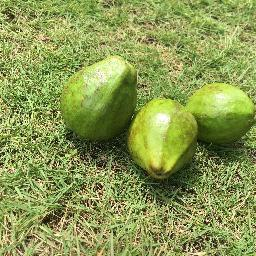Good_guava: (61, 52, 133, 151), (127, 92, 199, 177), (192, 77, 256, 148)
